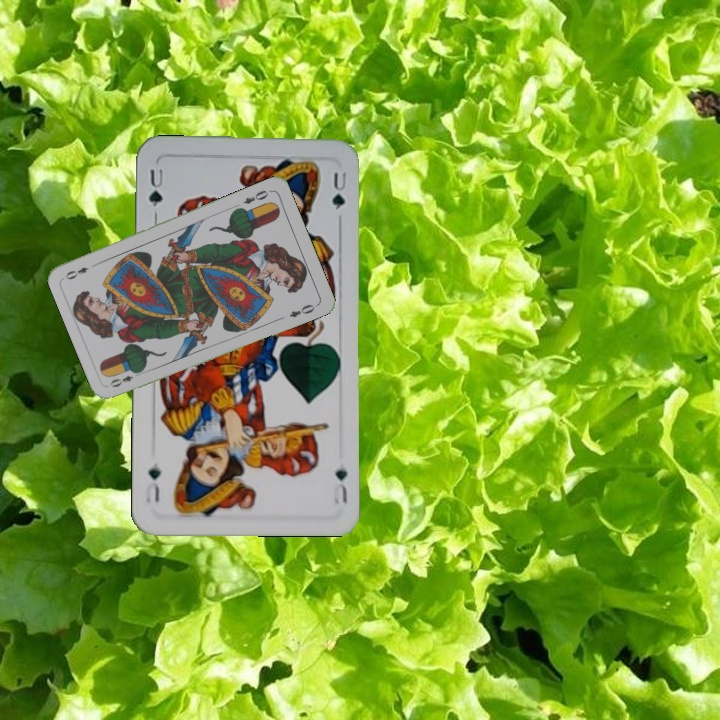EO: (106, 367, 144, 390), (239, 186, 274, 207)
GU: (145, 164, 166, 219), (329, 464, 349, 507)
